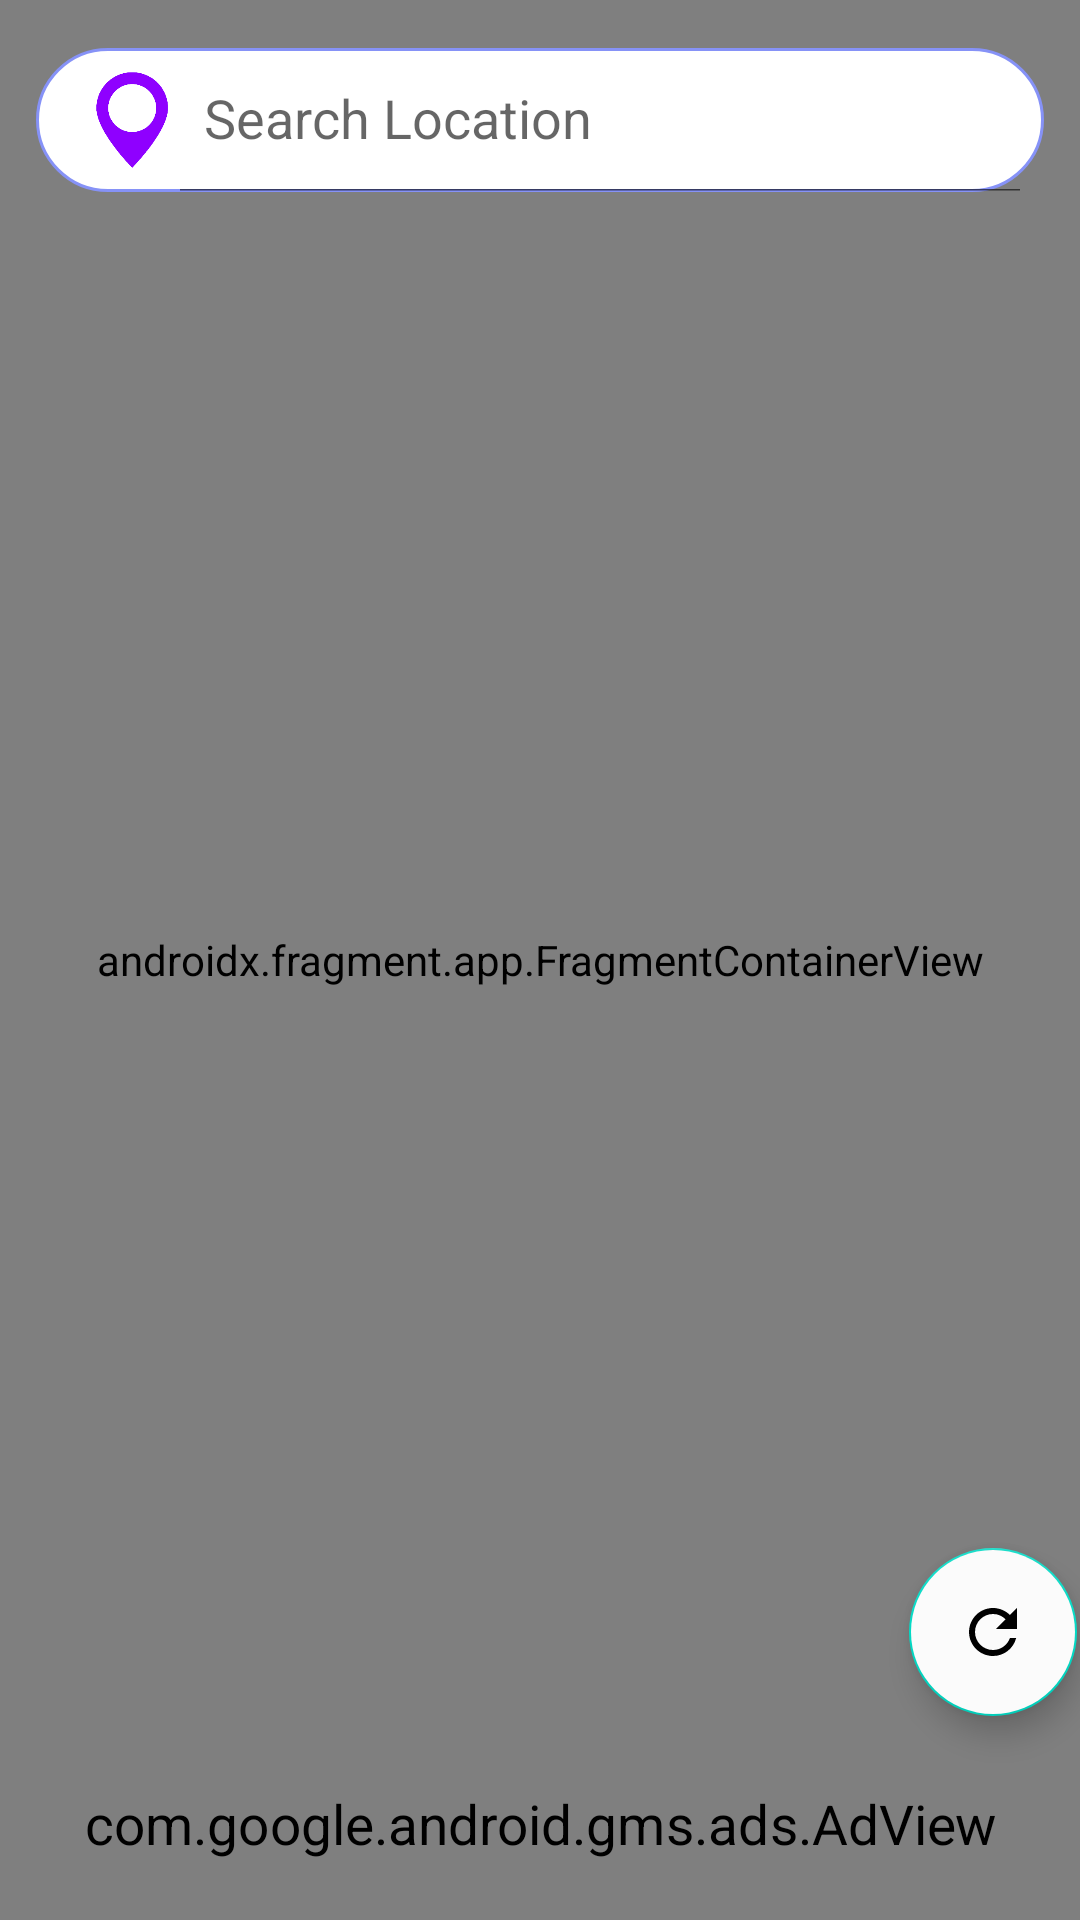

Point at icon controls on the screen. Image size 1080 x 1920, points as (x,y).
refresh: (993,1632)
